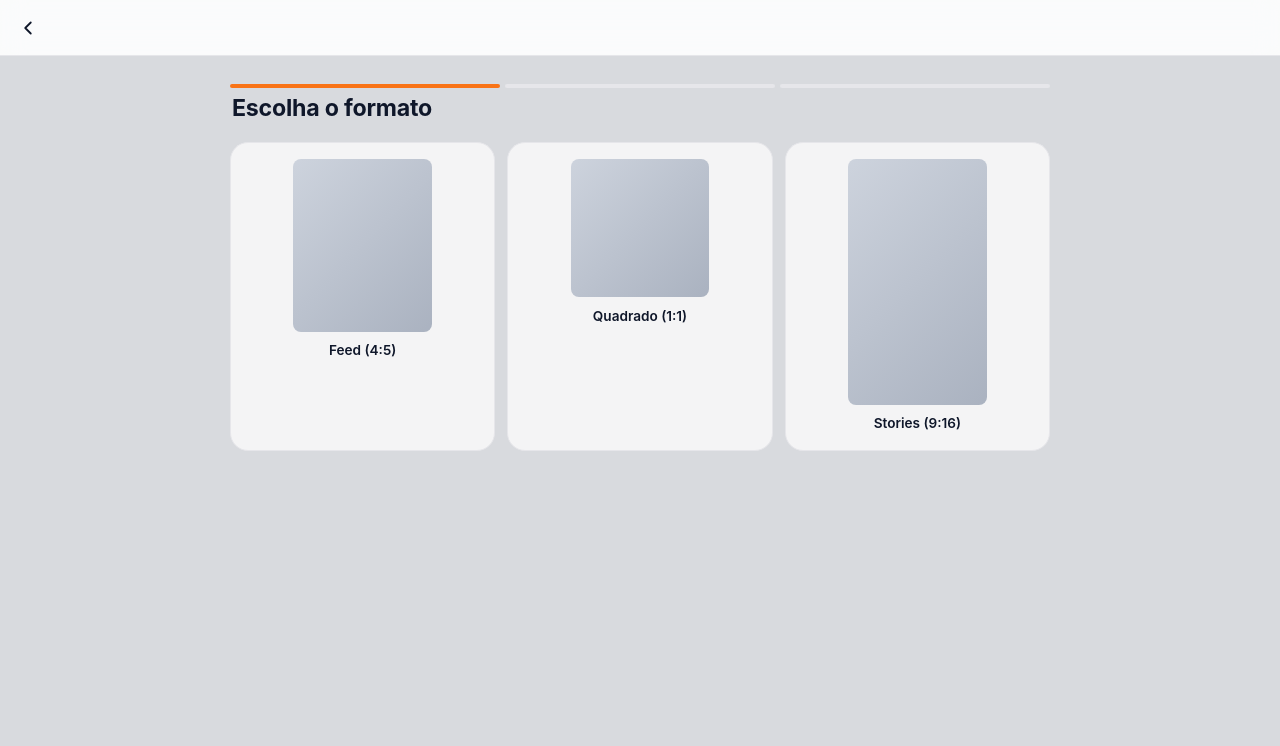
Scenario: NewProject — fluxo › filtra templates por tipo
Click the button "Feed (4:5)". click: (363, 296)
box: [230,142,495,451]
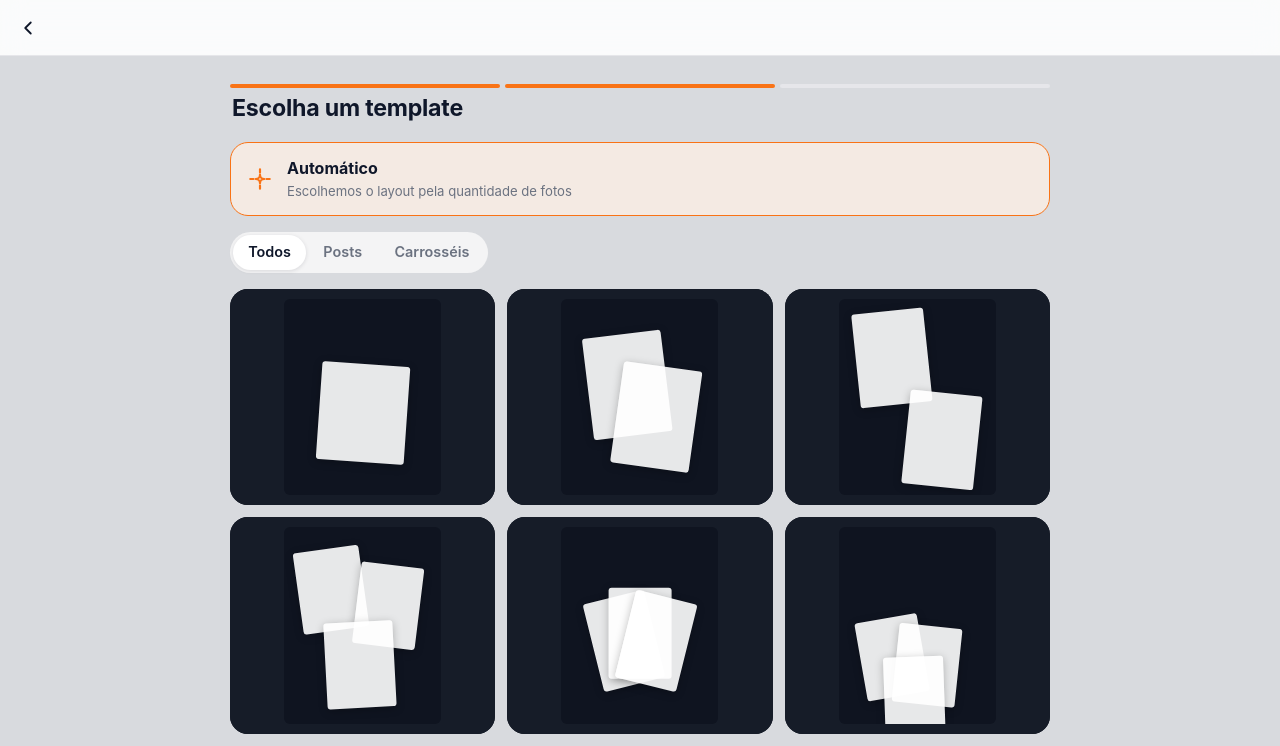
Click the button "Posts". click: (343, 253)
box: [308,235,377,270]
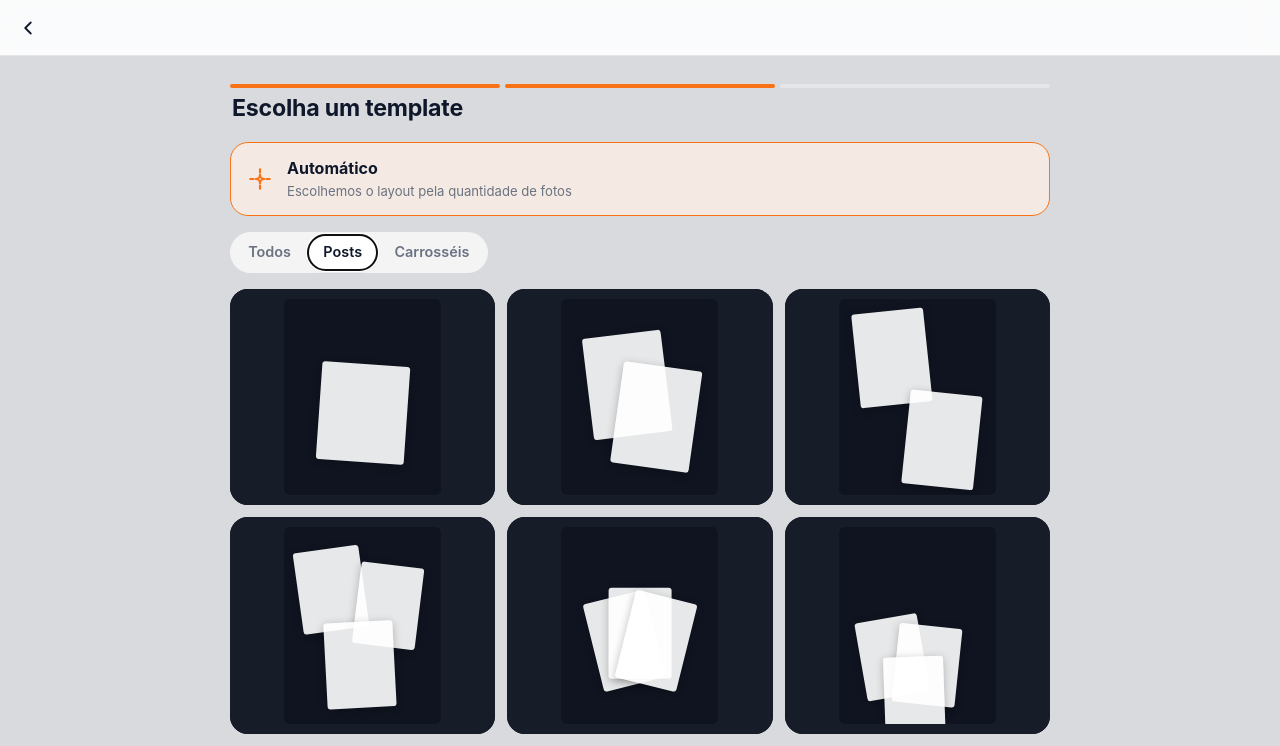
Check: the number of buttons named "post-" is 6, box [230,289,495,505]; [507,289,773,505]; [785,289,1050,505]; [230,517,495,734]; [507,517,773,734]; [785,517,1050,734]
